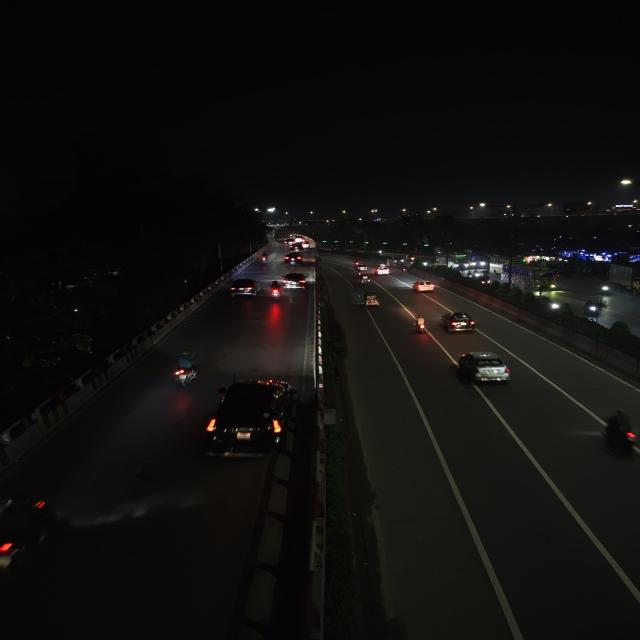bus: (500, 264, 555, 291), (437, 253, 466, 268), (272, 226, 292, 241), (466, 255, 486, 269)
car: (204, 376, 292, 462), (453, 350, 511, 386), (441, 311, 477, 334), (230, 279, 261, 298), (283, 272, 307, 292), (412, 281, 437, 296), (283, 251, 304, 268), (373, 266, 389, 276), (289, 244, 305, 253), (284, 238, 294, 247), (295, 236, 304, 243), (358, 265, 368, 271), (302, 242, 310, 249)
cng: (363, 290, 382, 310), (360, 272, 371, 286)
motorcycle: (170, 349, 202, 395), (410, 309, 432, 336), (266, 279, 285, 302), (581, 298, 600, 316), (595, 281, 612, 296), (260, 252, 269, 266)
truck: (608, 263, 639, 290)
